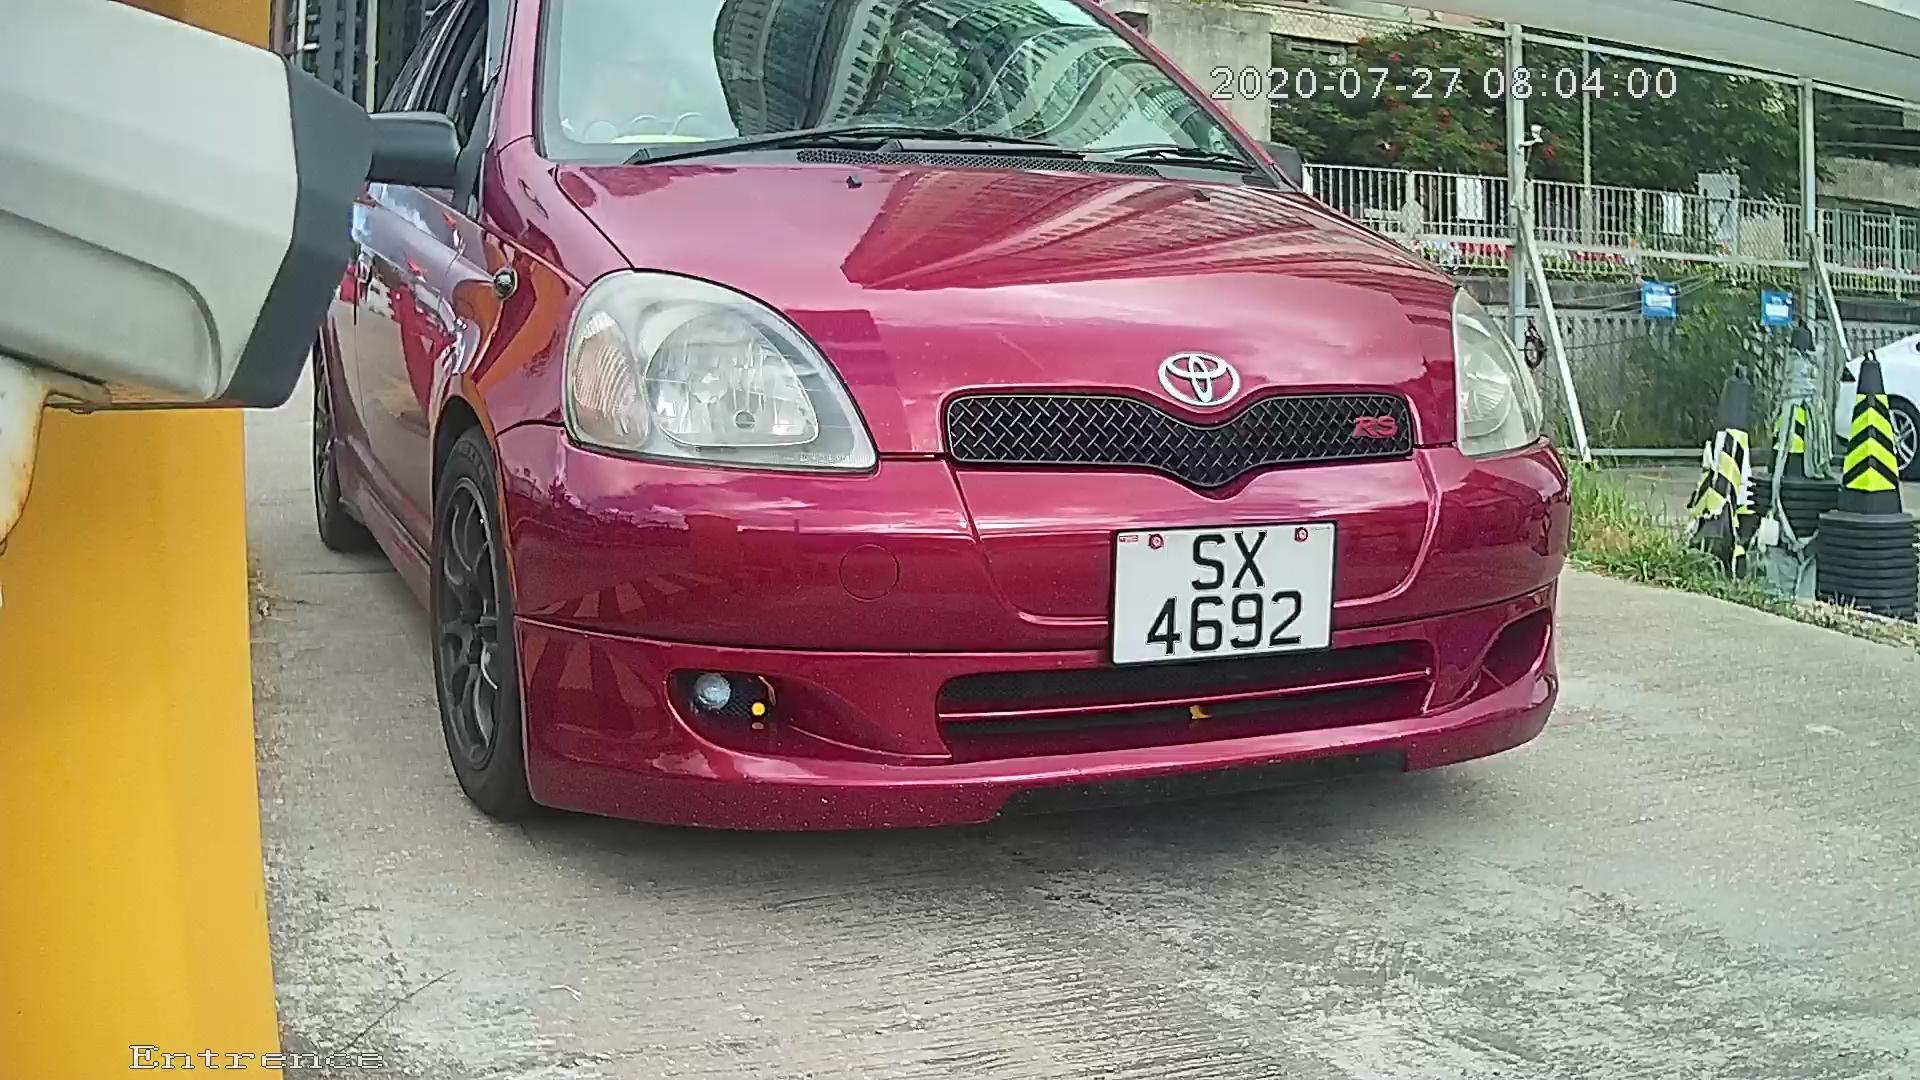License Plate: (1089, 502, 1346, 676)
